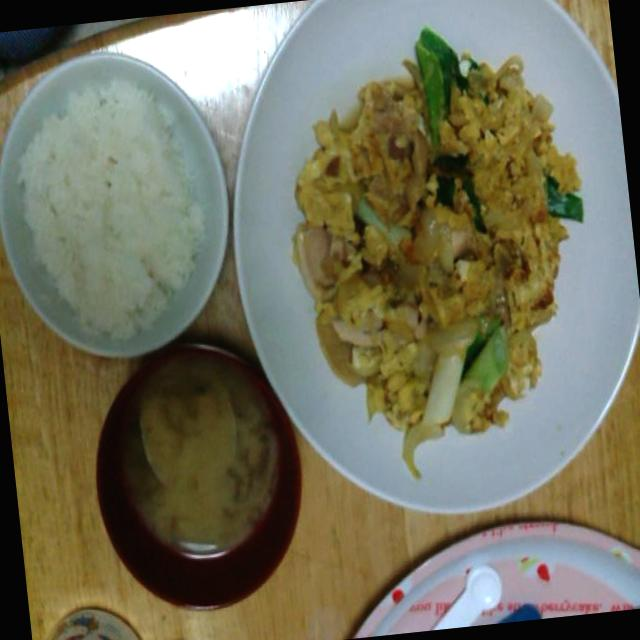Rice: (8, 182, 180, 412)
